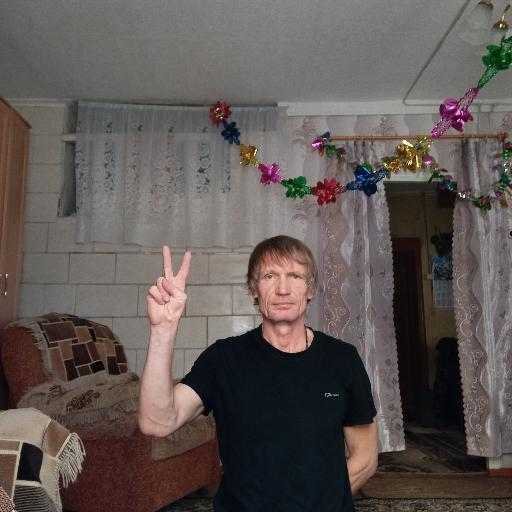peace: (144, 242, 193, 328)
